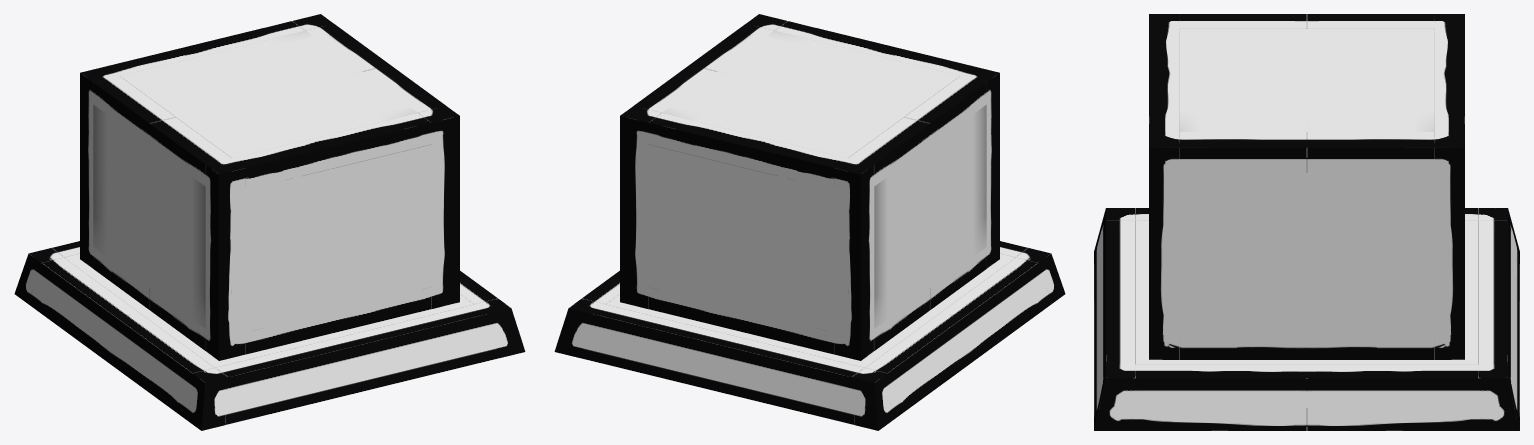
Rendered from 4 Sides Building.fbx.
The picture shows the model from 3 angles, left to right: view 1: azimuth 30°, elevation 25°; view 2: azimuth 150°, elevation 25°; view 3: azimuth 270°, elevation 25°; orthographic projection. The views are drawn at different scales.
Visible parts, largest first — view 1: 4 Sides House, 4 Sides Ground; view 2: 4 Sides House, 4 Sides Ground; view 3: 4 Sides House, 4 Sides Ground.
Boxes of the visible parts, x1,y1,x2,y2 form: 4 Sides House: [80, 14, 459, 360]; 4 Sides Ground: [14, 241, 525, 430]; 4 Sides House: [620, 14, 999, 360]; 4 Sides Ground: [554, 241, 1065, 430]; 4 Sides House: [1149, 14, 1464, 359]; 4 Sides Ground: [1094, 208, 1519, 430].
Bounding box in the file's own units: 200 × 135 × 200.
